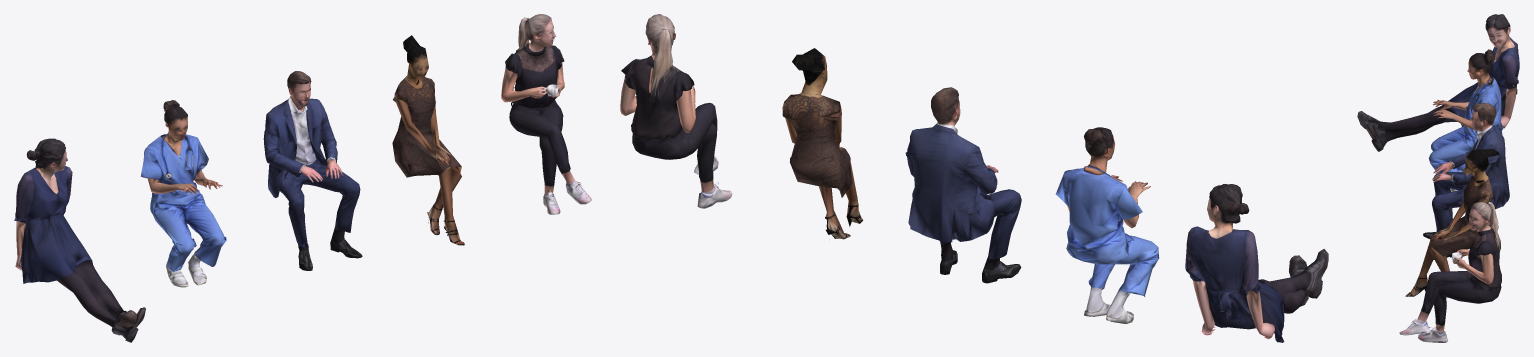
The model's file is people5s_lod1.glb.
3 views of the same model, side by side, from view 1: azimuth 30°, elevation 25°; view 2: azimuth 150°, elevation 25°; view 3: azimuth 270°, elevation 25° (orthographic). The views are drawn at different scales.
Parts seen in each view (by area): view 1: Sitting people x 5 11-001, Sitting people x 5 11-004_Sitting people x 5 11-004_0, Sitting people x 5 11-005_Sitting people x 5 11-005_0, Sitting people x 5 11-002, Sitting people x 5 11-003; view 2: Sitting people x 5 11-004_Sitting people x 5 11-004_0, Sitting people x 5 11-001, Sitting people x 5 11-005_Sitting people x 5 11-005_0, Sitting people x 5 11-002, Sitting people x 5 11-003; view 3: Sitting people x 5 11-002, Sitting people x 5 11-001, Sitting people x 5 11-004_Sitting people x 5 11-004_0, Sitting people x 5 11-005_Sitting people x 5 11-005_0, Sitting people x 5 11-003.
Part boxes in pixels (box(x1,y1,x2,y2)): Sitting people x 5 11-001: box(14, 138, 145, 342); Sitting people x 5 11-004_Sitting people x 5 11-004_0: box(263, 71, 362, 270); Sitting people x 5 11-005_Sitting people x 5 11-005_0: box(141, 100, 226, 287); Sitting people x 5 11-002: box(501, 14, 591, 214); Sitting people x 5 11-003: box(392, 35, 464, 245); Sitting people x 5 11-004_Sitting people x 5 11-004_0: box(905, 87, 1021, 283); Sitting people x 5 11-001: box(1185, 184, 1328, 342); Sitting people x 5 11-005_Sitting people x 5 11-005_0: box(1055, 127, 1159, 323); Sitting people x 5 11-002: box(620, 14, 732, 208); Sitting people x 5 11-003: box(782, 48, 863, 239); Sitting people x 5 11-002: box(1399, 202, 1501, 342); Sitting people x 5 11-001: box(1357, 14, 1519, 151); Sitting people x 5 11-004_Sitting people x 5 11-004_0: box(1423, 103, 1509, 259); Sitting people x 5 11-005_Sitting people x 5 11-005_0: box(1428, 49, 1502, 191); Sitting people x 5 11-003: box(1405, 149, 1499, 296).
Size of the model in its own units: 4.39 by 1.34 by 1.33.
5 materials, 5 textured.
